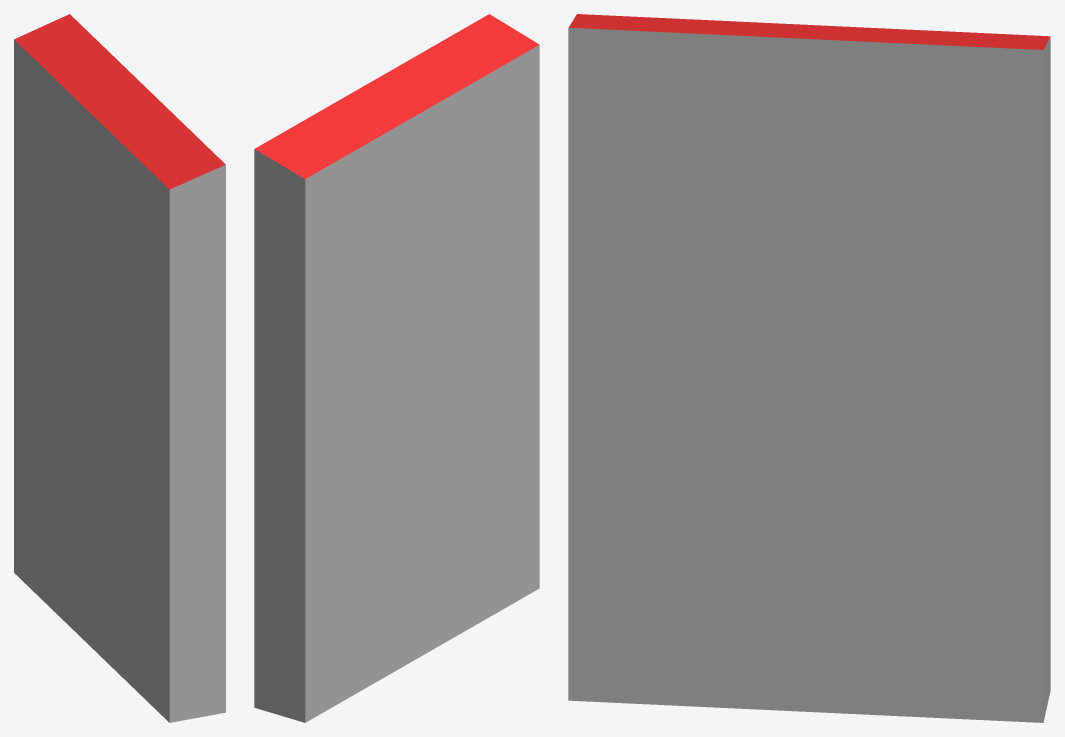
Rendered from DEBY_LOD2_104576561.dae.
3 views of the same model, side by side, from view 1: azimuth 30°, elevation 25°; view 2: azimuth 150°, elevation 25°; view 3: azimuth 270°, elevation 25° (orthographic). The views are drawn at different scales.
Bounding box in the file's own units: 2.54 × 9.58 × 14.76.
